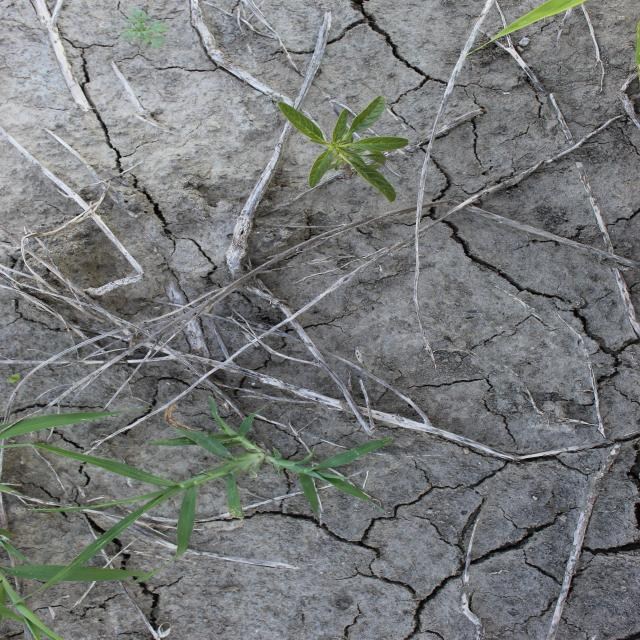Goosegrass: (2, 393, 394, 611)
Ragweed: (116, 5, 172, 50)
Waterhemp: (276, 94, 413, 204)
